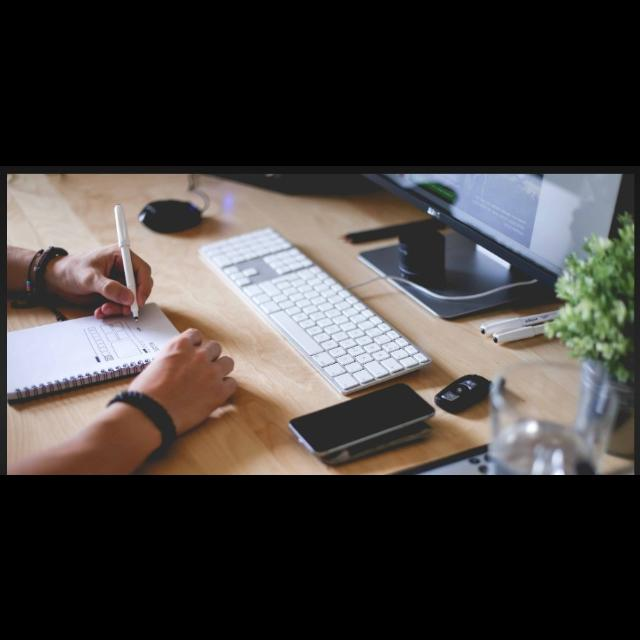Computer-Keyboard: (196, 226, 430, 396)
